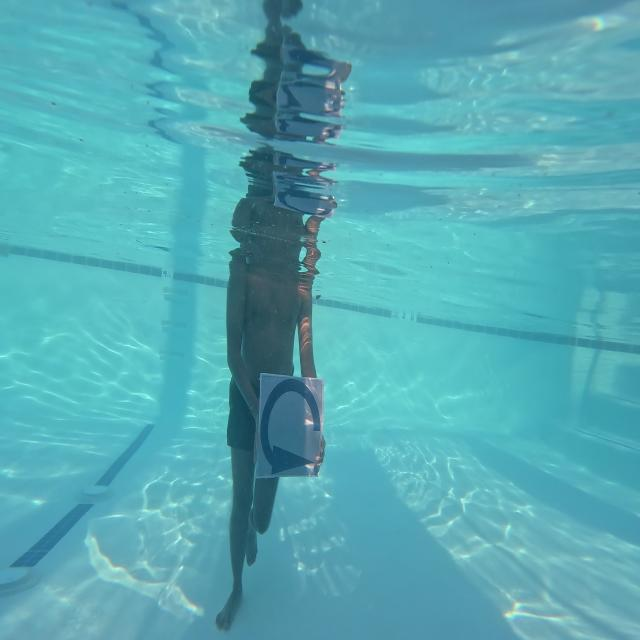blue_side: (258, 372, 324, 480)
